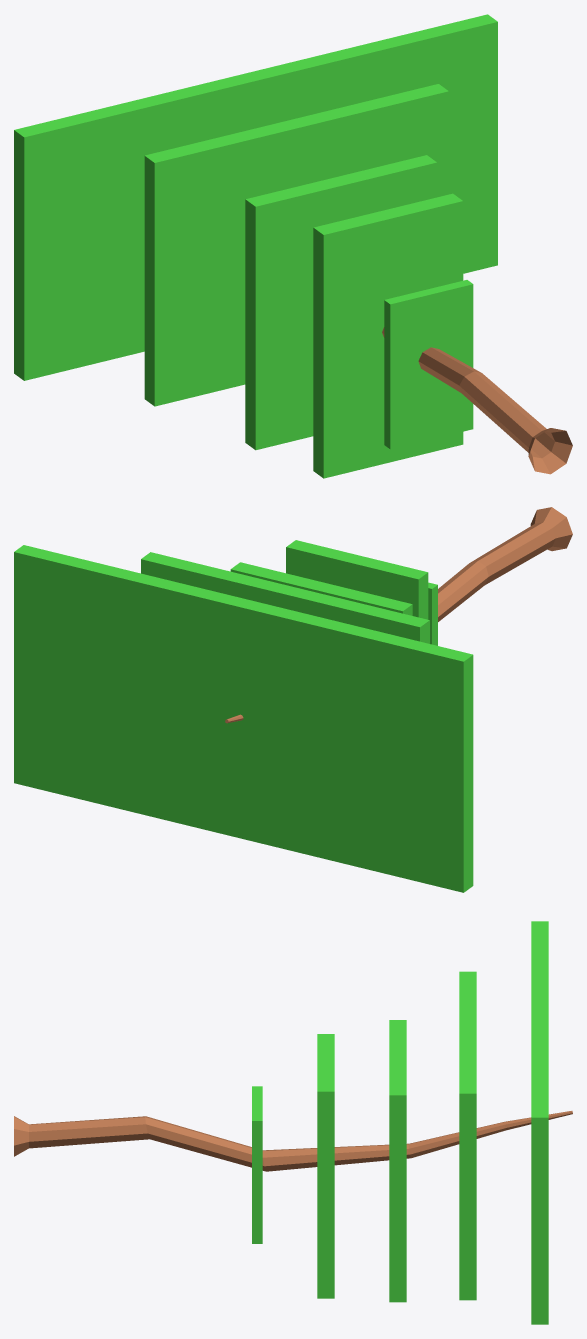
File: árbol 5.fbx
The picture shows the model from 3 angles, top to bottom: view 1: azimuth 30°, elevation 25°; view 2: azimuth 150°, elevation 25°; view 3: azimuth 270°, elevation 25°; orthographic projection. The views are drawn at different scales.
Parts seen in each view (by area): view 1: Circle.001; view 2: Circle.001; view 3: Circle.001.
Part boxes in pixels (box(x1,y1,x2,y2)): Circle.001: box(14, 14, 572, 478); Circle.001: box(14, 507, 572, 892); Circle.001: box(14, 921, 572, 1324).
Bounding box in the file's own units: 1195 × 702 × 1438.
